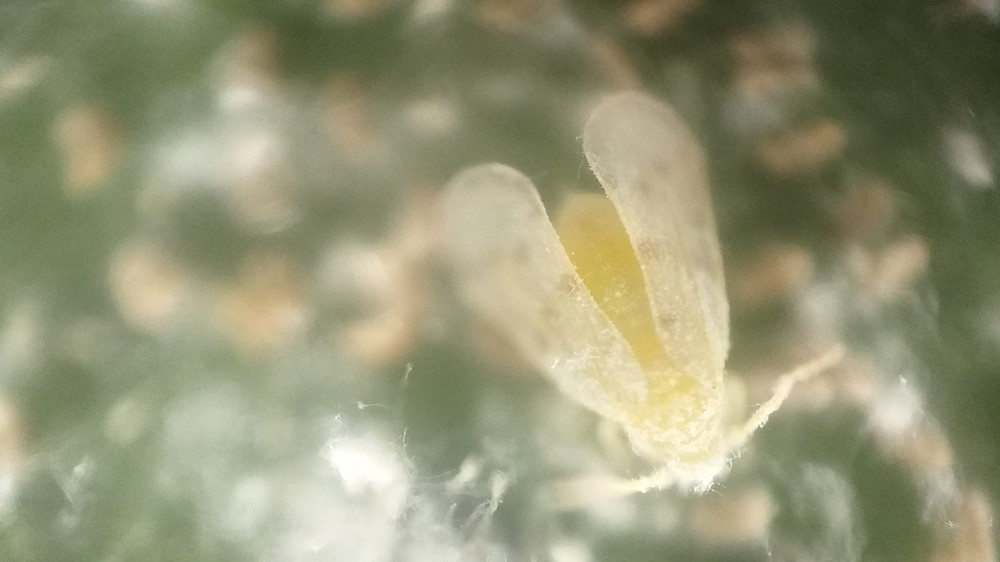Mosca Blanca: (417, 90, 848, 510)
